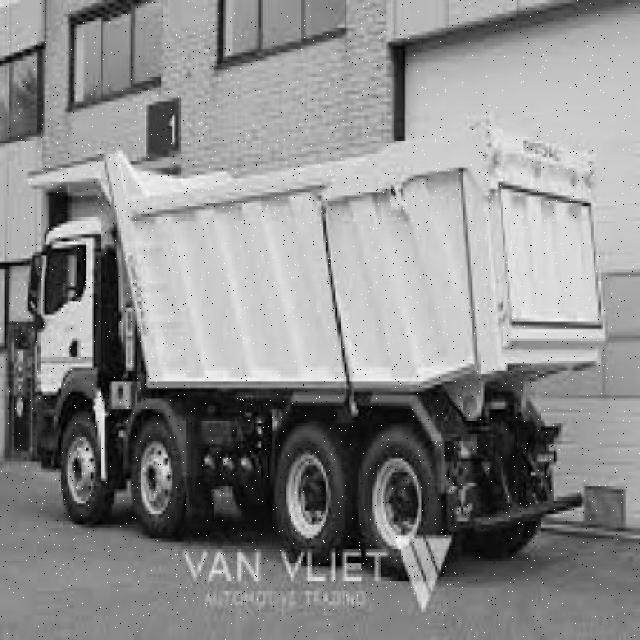Truck- Multi-Axle: (24, 127, 603, 584)
